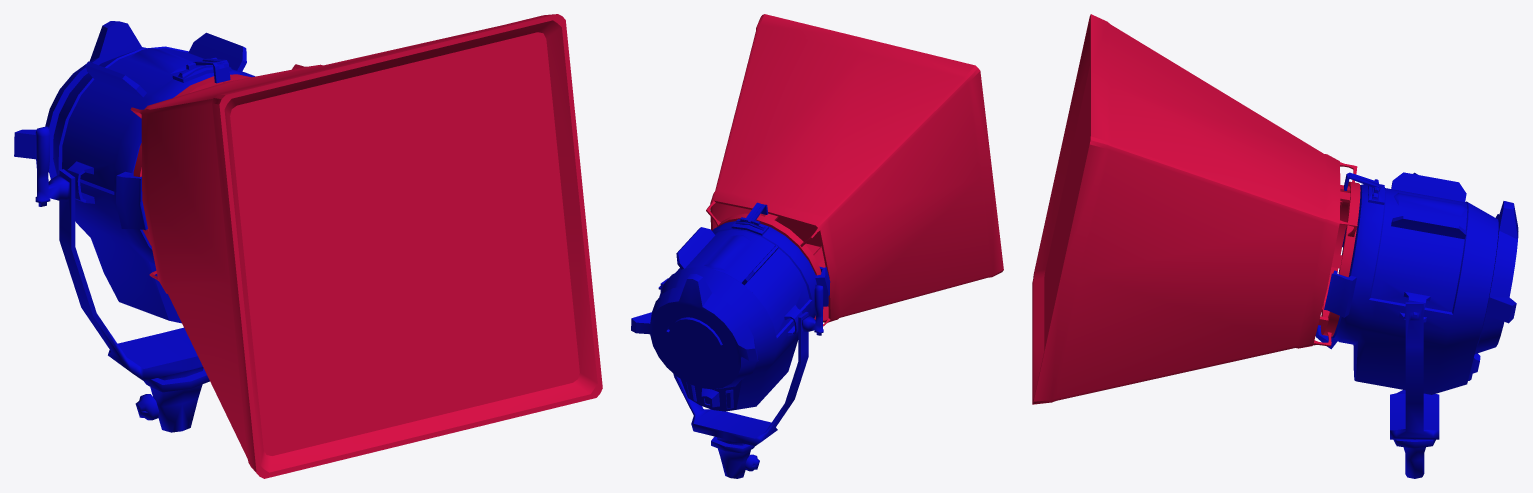
File: 650 Watt Tungsten Fresnel with Softbox Animatable.fbx
The picture shows the model from 3 angles, left to right: view 1: azimuth 30°, elevation 25°; view 2: azimuth 150°, elevation 25°; view 3: azimuth 270°, elevation 25°; orthographic projection. The views are drawn at different scales.
Parts seen in each view (by area): view 1: Cylinder.001, Cylinder; view 2: Cylinder.001, Cylinder; view 3: Cylinder.001, Cylinder.
Boxes of the visible parts, left/top/right/bottom form: Cylinder.001: left=14, top=14, right=602, bottom=478; Cylinder: left=35, top=126, right=209, bottom=432; Cylinder.001: left=631, top=14, right=1003, bottom=411; Cylinder: left=660, top=278, right=823, bottom=478; Cylinder.001: left=1032, top=14, right=1518, bottom=404; Cylinder: left=1390, top=172, right=1439, bottom=478.
Size of the model in its own units: 66.83 by 97.54 by 108.
